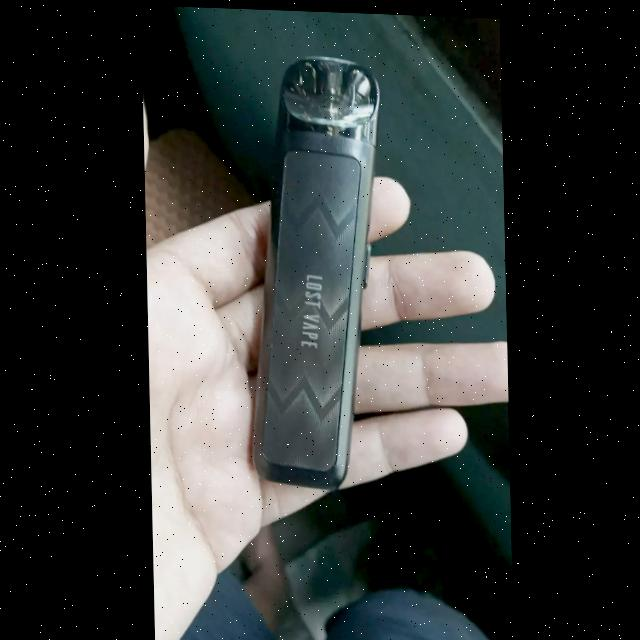vape: (247, 48, 388, 489)
